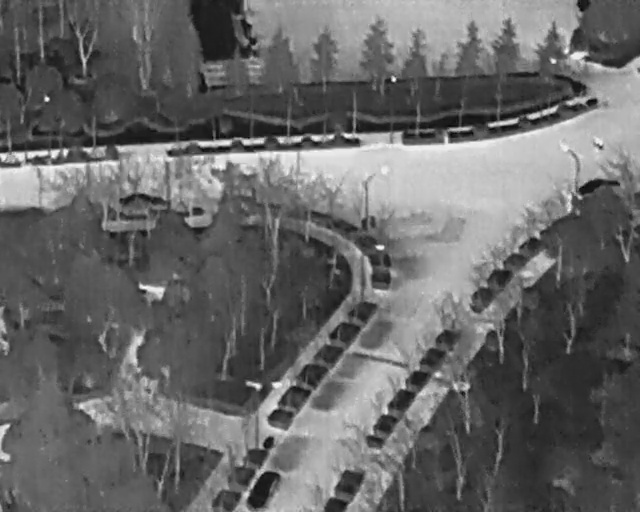Car: (568, 172, 624, 204), (246, 466, 282, 511), (115, 188, 169, 212), (597, 137, 605, 153), (592, 135, 599, 152)
